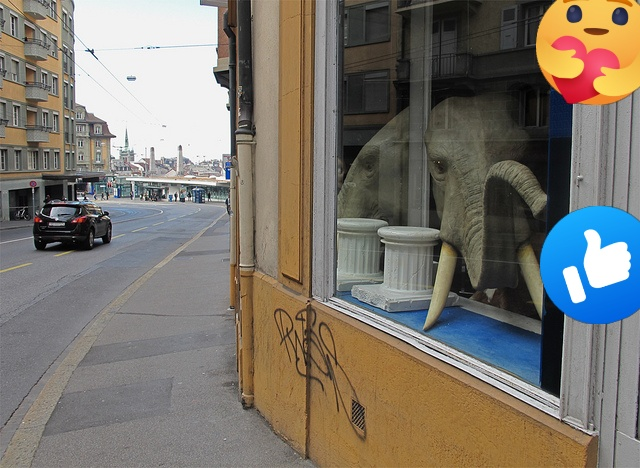care: (536, 0, 640, 105)
like: (540, 206, 640, 324)
